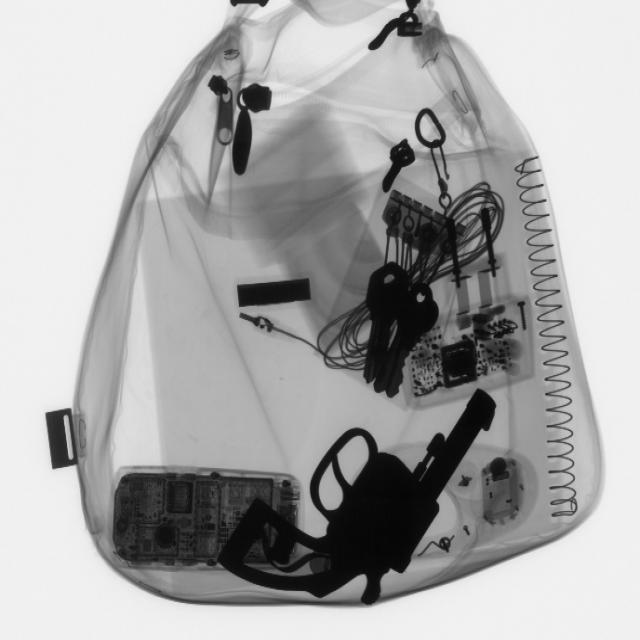GUN: (227, 377, 494, 610)
